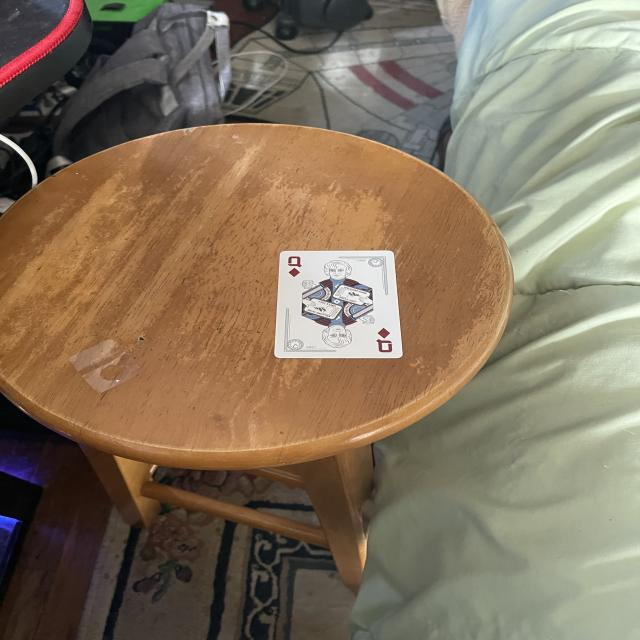2 of diamonds: (275, 251, 403, 359)
